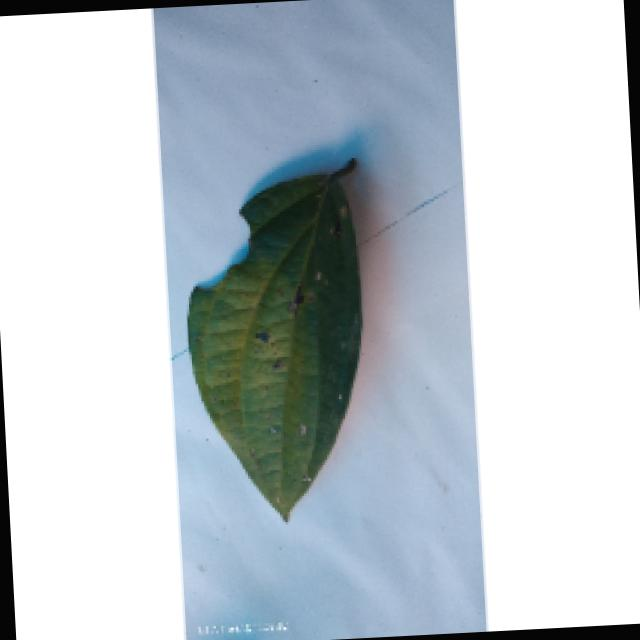slow-decline: (177, 158, 386, 526)
